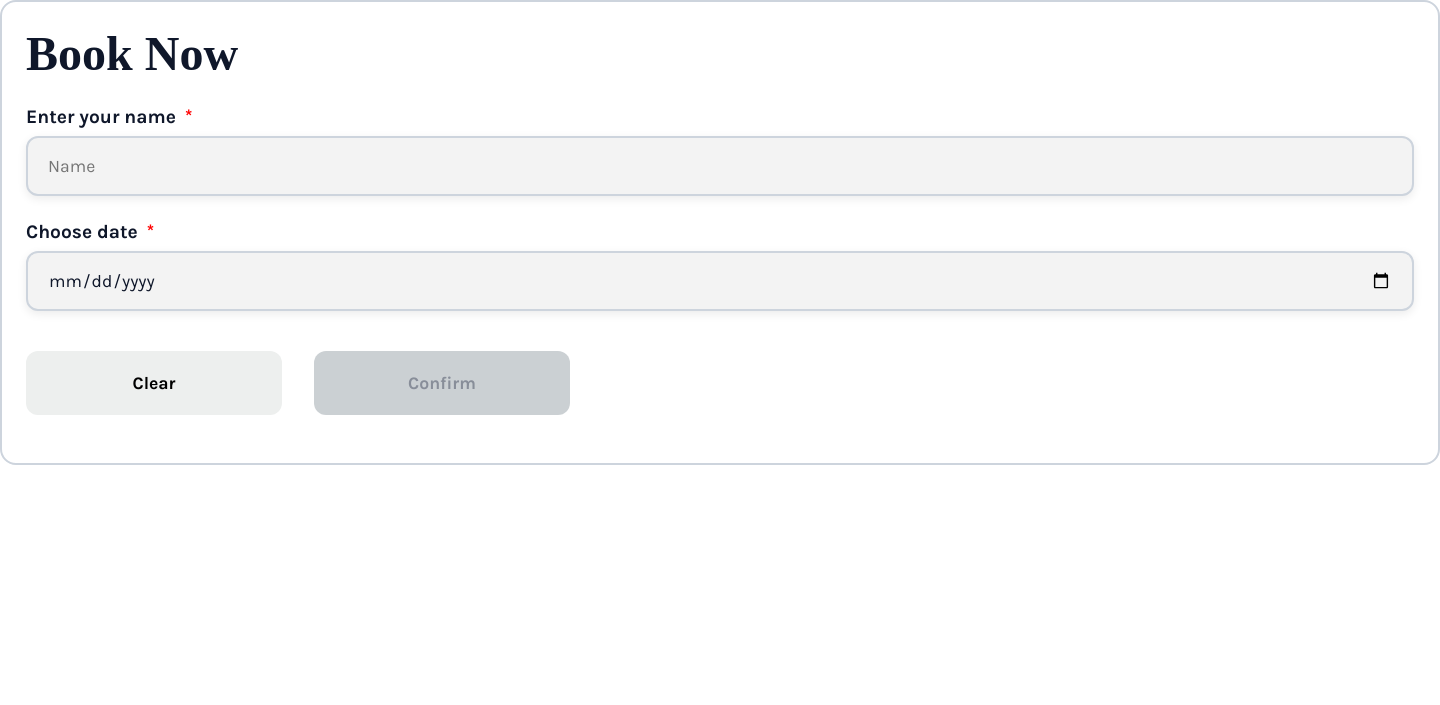
Scenario: shows error when guests below minimum
The width and height of the screenshot is (1440, 705).
Type "2099-06-10" into the date field labelled "Choose date *" at (720,281), box [26, 251, 1414, 311]
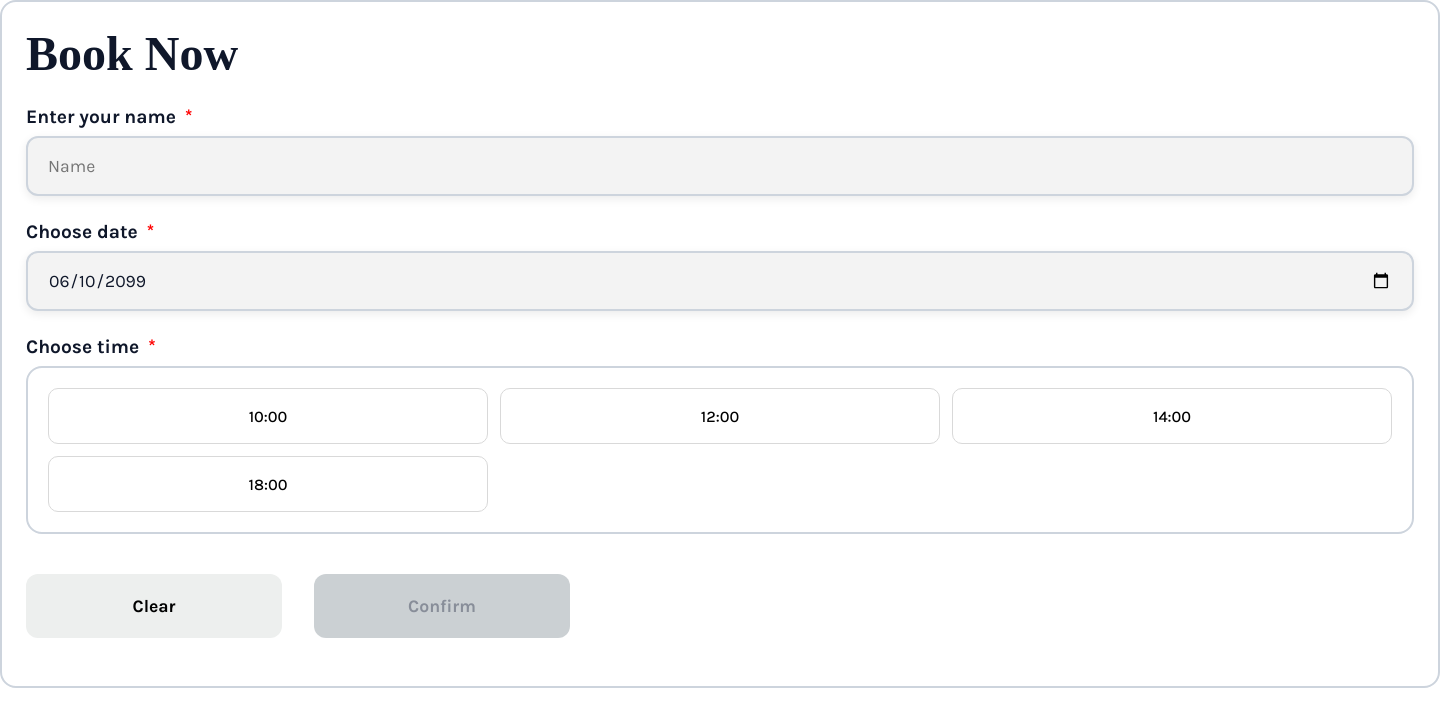
Click the button "18:00" at (268,484), box [48, 456, 488, 512]
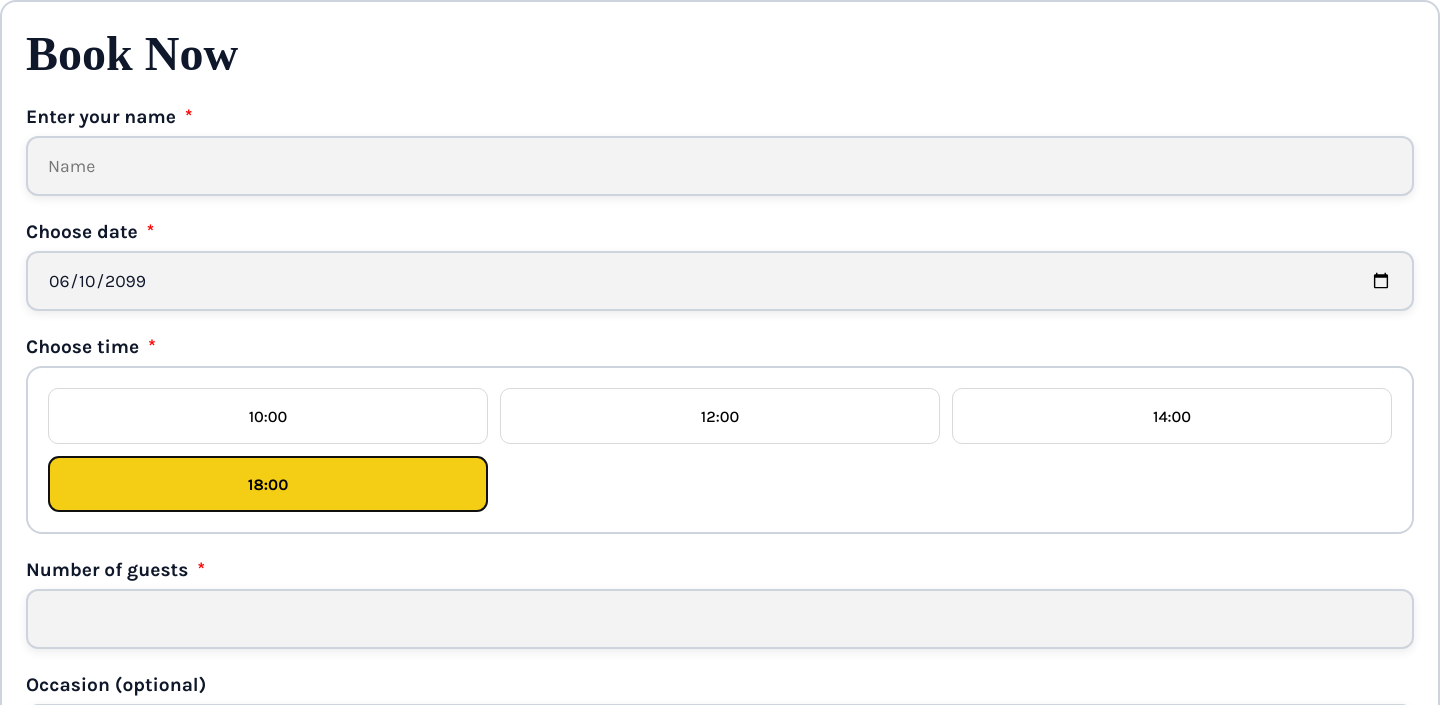
Type "0" into the number field labelled "Number of guests *" at (720,619), box [26, 589, 1414, 649]
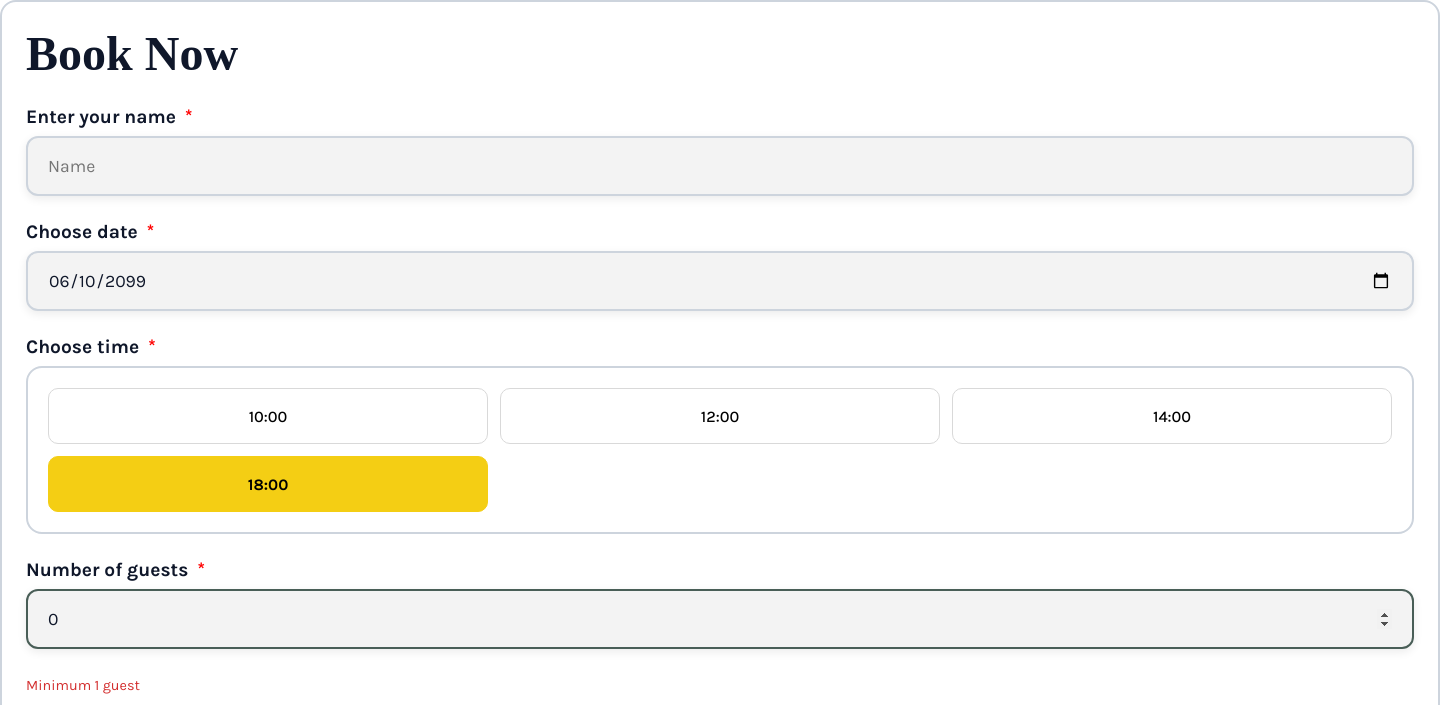
Check: the text "Minimum 1 guest" is shown, box [26, 677, 140, 694]
